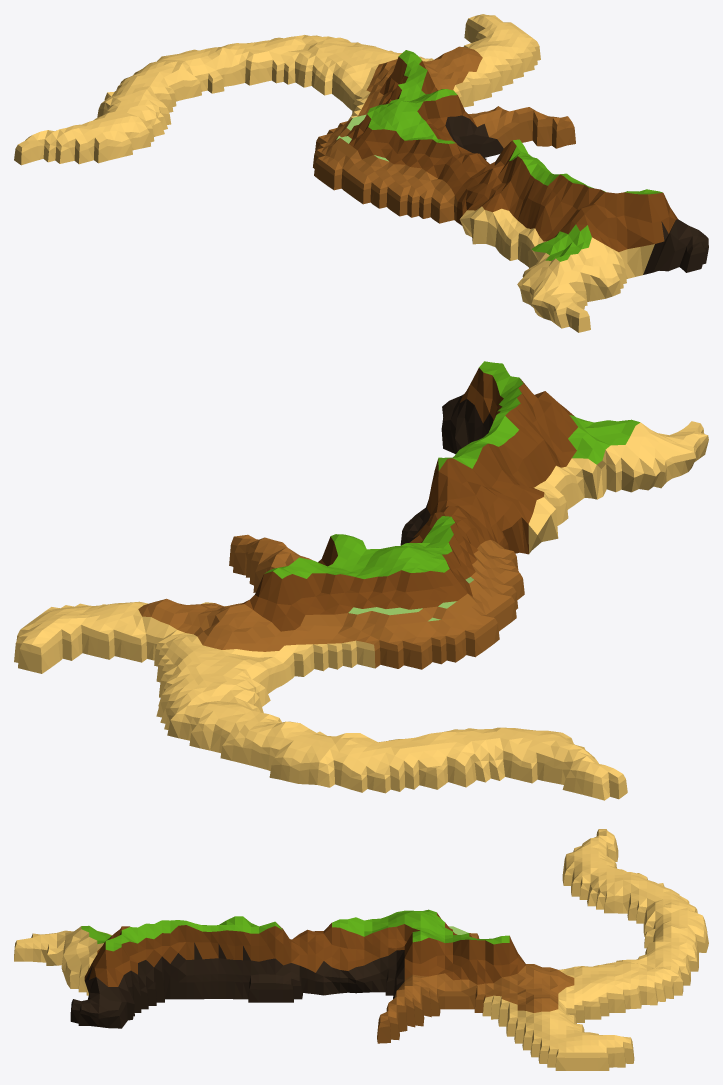
File: Island_C01_LargeRight_Model.fbx
3 renders of one model, top to bottom at view 1: azimuth 30°, elevation 25°; view 2: azimuth 150°, elevation 25°; view 3: azimuth 270°, elevation 25°, orthographic. The views are drawn at different scales.
Visible parts, largest first — view 1: polySurface2; view 2: polySurface2; view 3: polySurface2.
Part boxes in pixels (bbox=[...]): polySurface2: bbox=[14, 14, 708, 332]; polySurface2: bbox=[14, 361, 708, 800]; polySurface2: bbox=[14, 829, 708, 1070].
Size of the model in its own units: 327 by 47.71 by 422.
